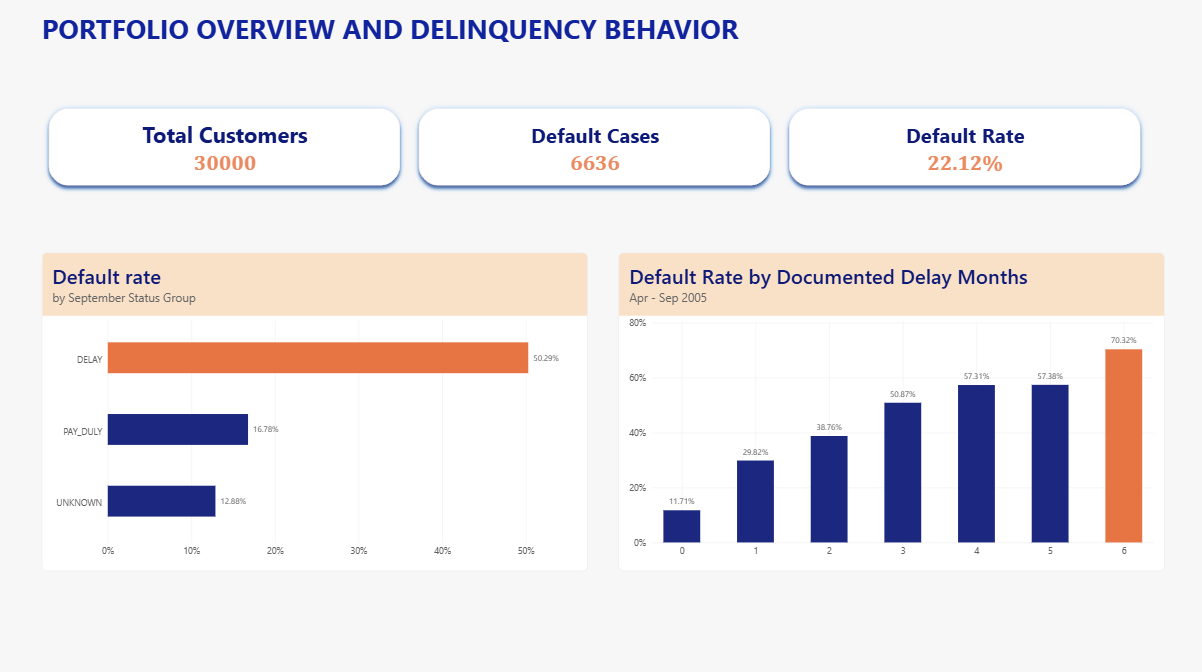

The dashboard page shown, as its layout file describes it:
{"tool":"powerbi","page":{"name":"Portfolio Overview và Delinquency Behavior","canvas":[1920,1080],"ordinal":0},"visuals":[{"type":"clusteredColumnChart","title":"Default Rate by Documented Delay Months","fields":{"Category":["Customers.documented_delay_months"],"Y":["Customers.Default Rate"]},"box":[984,408,864,504],"z":0},{"type":"textbox","box":[10,580,280,280],"z":1000},{"type":"textbox","box":[72,24,1128,144],"z":2000},{"type":"cardVisual","fields":{"Data":["Customers.Total Customers","Customers.Default Cases","Customers.Default Rate"]},"box":[72,168,1752,144],"z":4000},{"type":"clusteredBarChart","title":"Default rate","fields":{"Category":["Customers.September Status Group"],"Y":["Customers.Default Rate"]},"box":[72,408,864,504],"z":5000}]}

Visuals, with their boxes in screenshot pixels (x1, y1, x2, y2), scaled from the page's 1920x1080 canvas onto the 1202x672 screenshot:
"Default Rate by Documented Delay Months" clusteredColumnChart: region(616, 254, 1157, 567)
textbox: region(6, 361, 182, 535)
textbox: region(45, 15, 751, 105)
cardVisual - Customers.Total Customers x Customers.Default Cases: region(45, 105, 1142, 194)
"Default rate" clusteredBarChart: region(45, 254, 586, 567)
